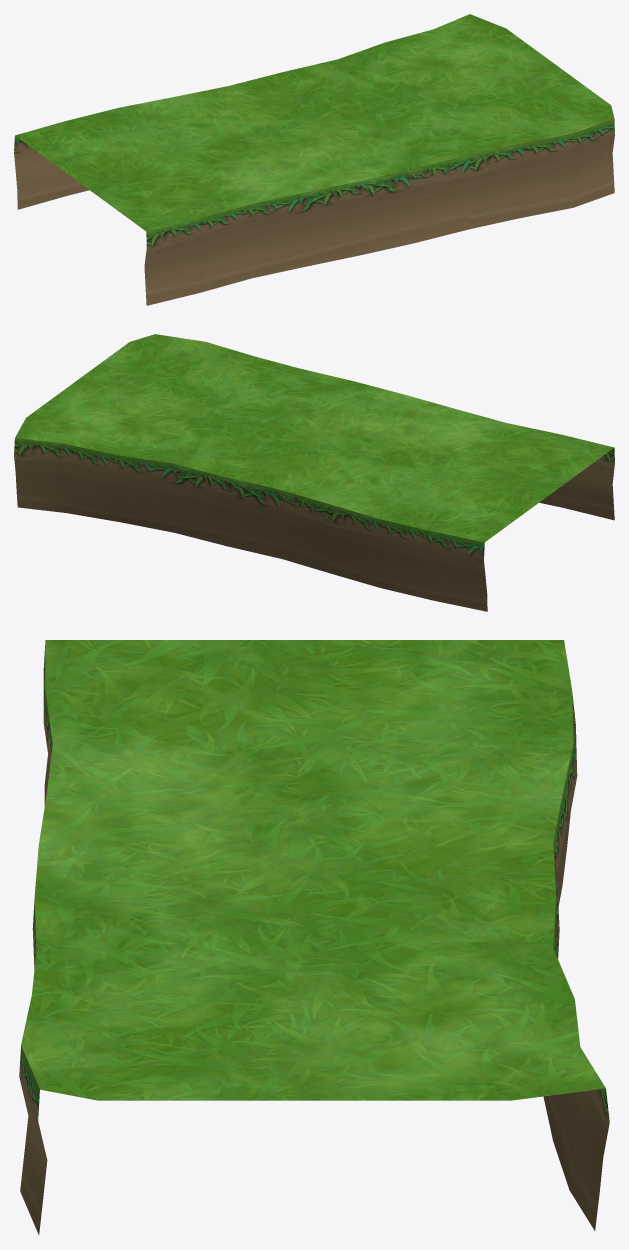
The model's file is hub_tot_plat_02.FBX.
3 views of the same model, one above another, from view 1: azimuth 30°, elevation 25°; view 2: azimuth 150°, elevation 25°; view 3: azimuth 270°, elevation 25° (orthographic). The views are drawn at different scales.
Visible parts, largest first — view 1: toturial_plat_02, toturial_plat_02_cliff; view 2: toturial_plat_02, toturial_plat_02_cliff; view 3: toturial_plat_02, toturial_plat_02_cliff.
Boxes of the visible parts, box(x1,y1,x2,y2) form: toturial_plat_02: box(15, 14, 614, 231); toturial_plat_02_cliff: box(14, 119, 614, 305); toturial_plat_02: box(15, 334, 614, 542); toturial_plat_02_cliff: box(14, 438, 614, 611); toturial_plat_02: box(21, 640, 605, 1100); toturial_plat_02_cliff: box(19, 645, 609, 1234).
Bounding box in the file's own units: 2832 × 1535 × 420.
